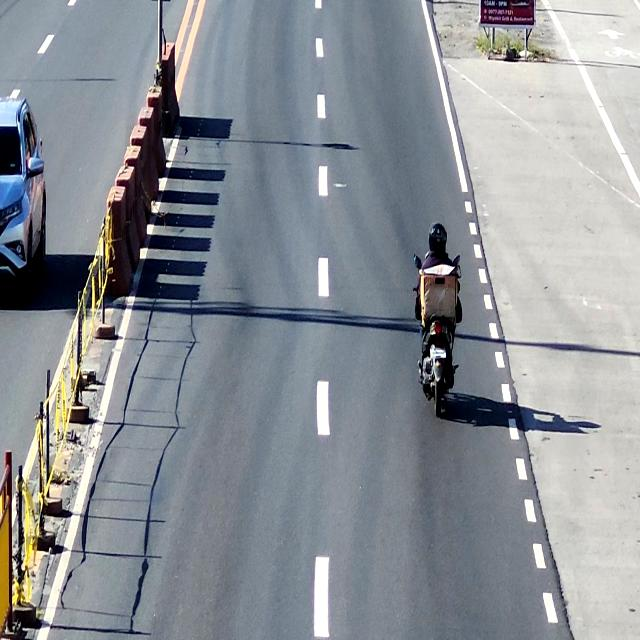Car: (0, 98, 49, 296)
License-Plate: (427, 342, 448, 361)
Motorcycle: (412, 233, 467, 423)
